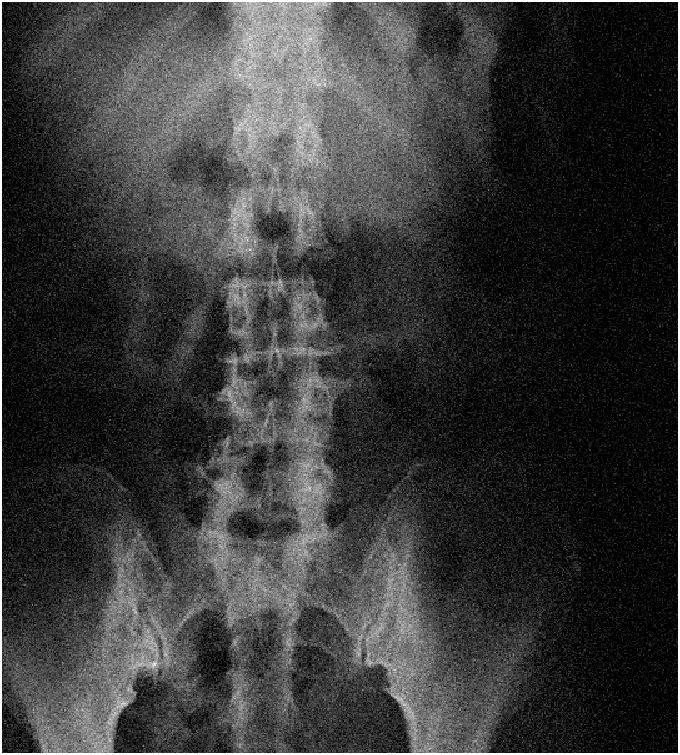lumbar scoliosis: (204, 138, 347, 528)
